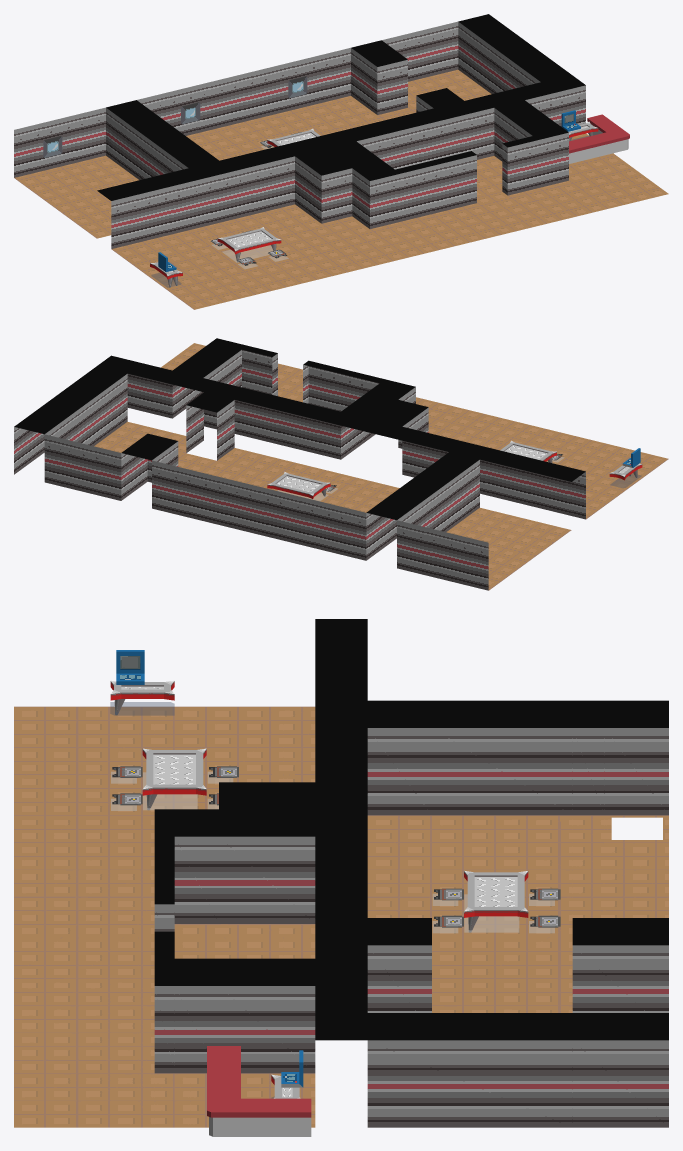
File: GALHQ2-2.obj
3 renders of one model, top to bottom at view 1: azimuth 30°, elevation 25°; view 2: azimuth 150°, elevation 25°; view 3: azimuth 270°, elevation 25°, orthographic. The views are drawn at different scales.
Parts seen in each view (by area): view 1: m_dun2601_00_00c; view 2: m_dun2601_00_00c; view 3: m_dun2601_00_00c.
Boxes of the visible parts, bbox=[...] form: m_dun2601_00_00c: bbox=[14, 14, 668, 309]; m_dun2601_00_00c: bbox=[14, 338, 668, 590]; m_dun2601_00_00c: bbox=[14, 619, 668, 1136].
Size of the model in its own units: 512 by 48 by 326.
